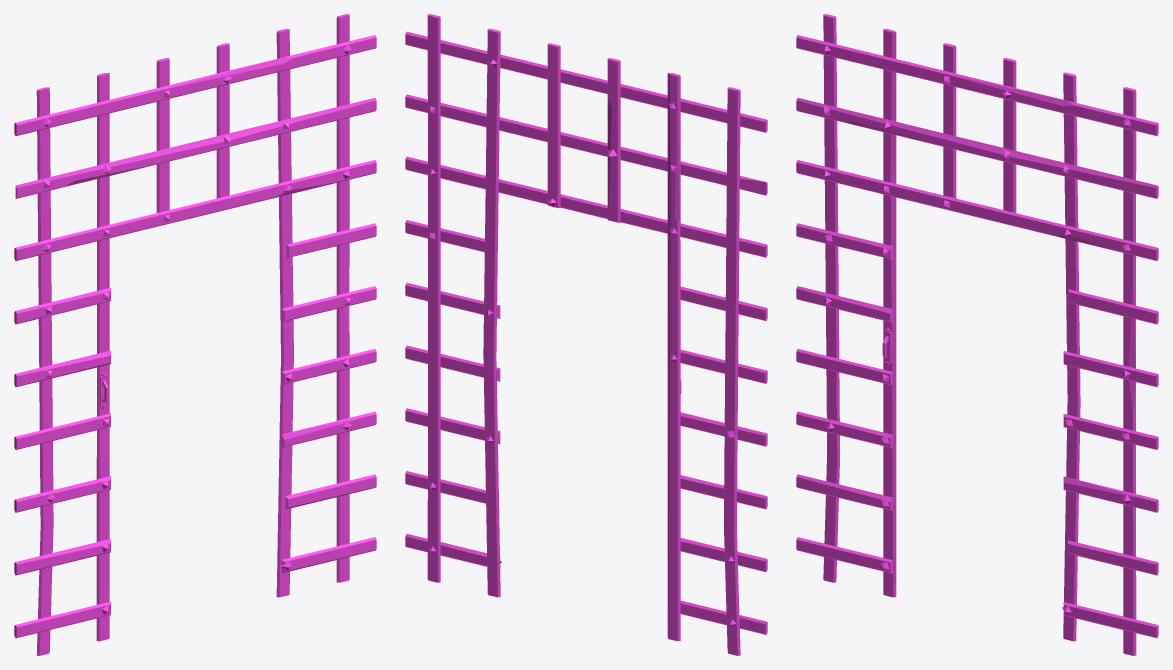
The model's file is SM_Wall_Door_Bars_2x3m_Fantasy.fbx.
3 renders of one model, left to right at view 1: azimuth 30°, elevation 25°; view 2: azimuth 150°, elevation 25°; view 3: azimuth 330°, elevation 25°, orthographic.
Visible parts, largest first — view 1: SM_Wall_Door_Bars_2x3m_Fantasy; view 2: SM_Wall_Door_Bars_2x3m_Fantasy; view 3: SM_Wall_Door_Bars_2x3m_Fantasy.
Boxes of the visible parts, <box> form: SM_Wall_Door_Bars_2x3m_Fantasy: <box>14,14,376,655</box>; SM_Wall_Door_Bars_2x3m_Fantasy: <box>405,14,767,655</box>; SM_Wall_Door_Bars_2x3m_Fantasy: <box>796,14,1158,655</box>.
Bounding box in the file's own units: 2 × 3 × 0.1071.
